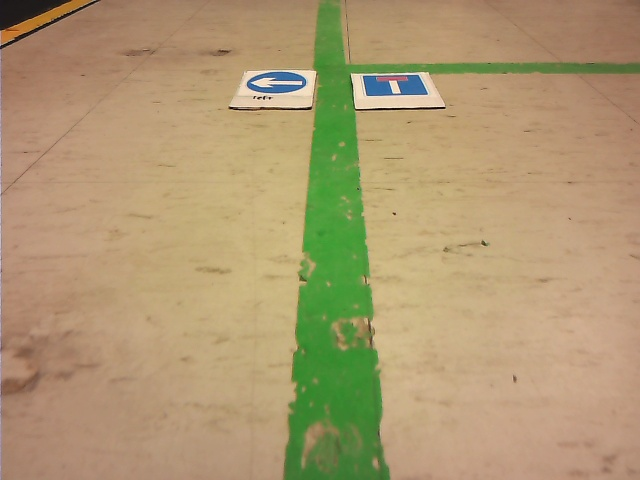DEAD END: (364, 74, 431, 95)
TURN LEFT: (248, 71, 306, 93)
